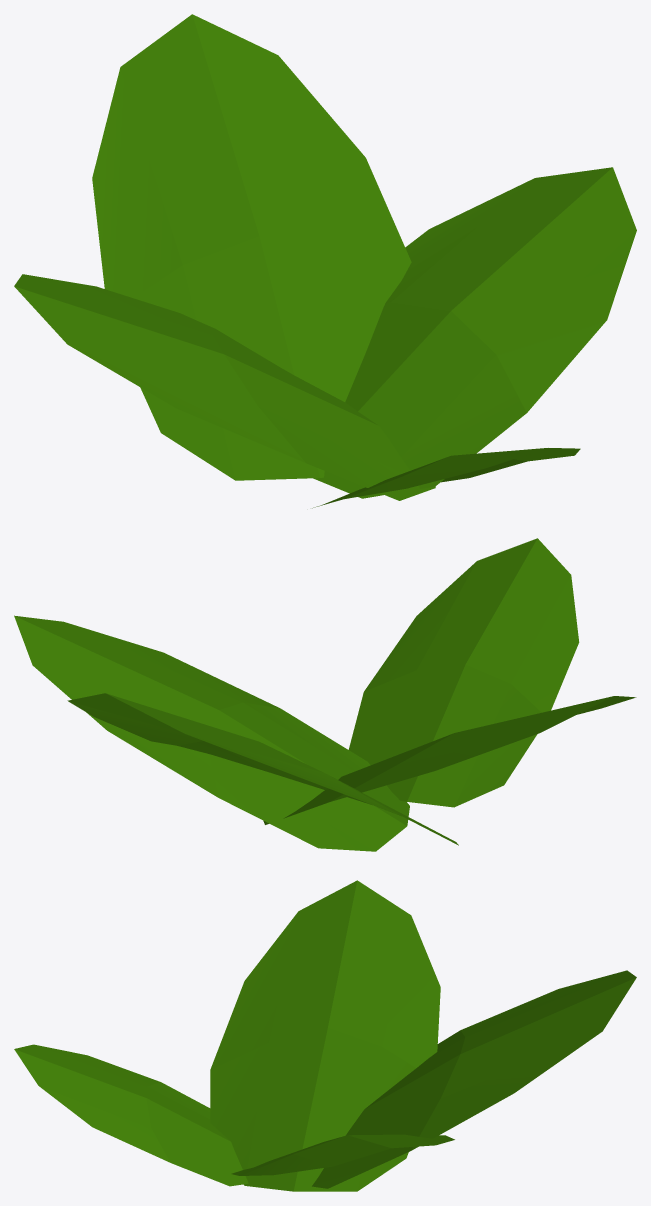
File: grass_00.obj
The picture shows the model from 3 angles, top to bottom: view 1: azimuth 30°, elevation 25°; view 2: azimuth 150°, elevation 25°; view 3: azimuth 270°, elevation 25°; orthographic projection. The views are drawn at different scales.
Visible parts, largest first — view 1: grass_01; view 2: grass_01; view 3: grass_01.
Part boxes in pixels (left/top/right/bottom): grass_01: left=14, top=14, right=636, bottom=508; grass_01: left=14, top=538, right=636, bottom=851; grass_01: left=14, top=880, right=636, bottom=1191.
Size of the model in its own units: 0.5948 by 0.2594 by 0.6791.
